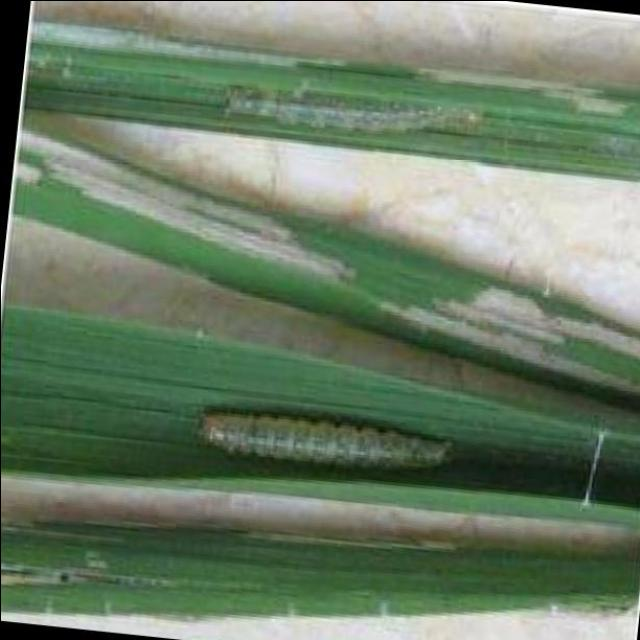leaf folder: (198, 412, 453, 466), (458, 443, 522, 462)
